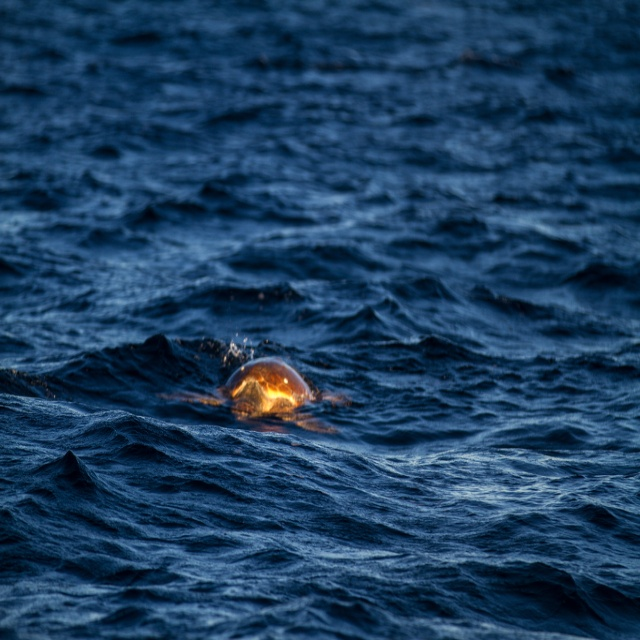Sea turtle: (177, 357, 354, 435)
